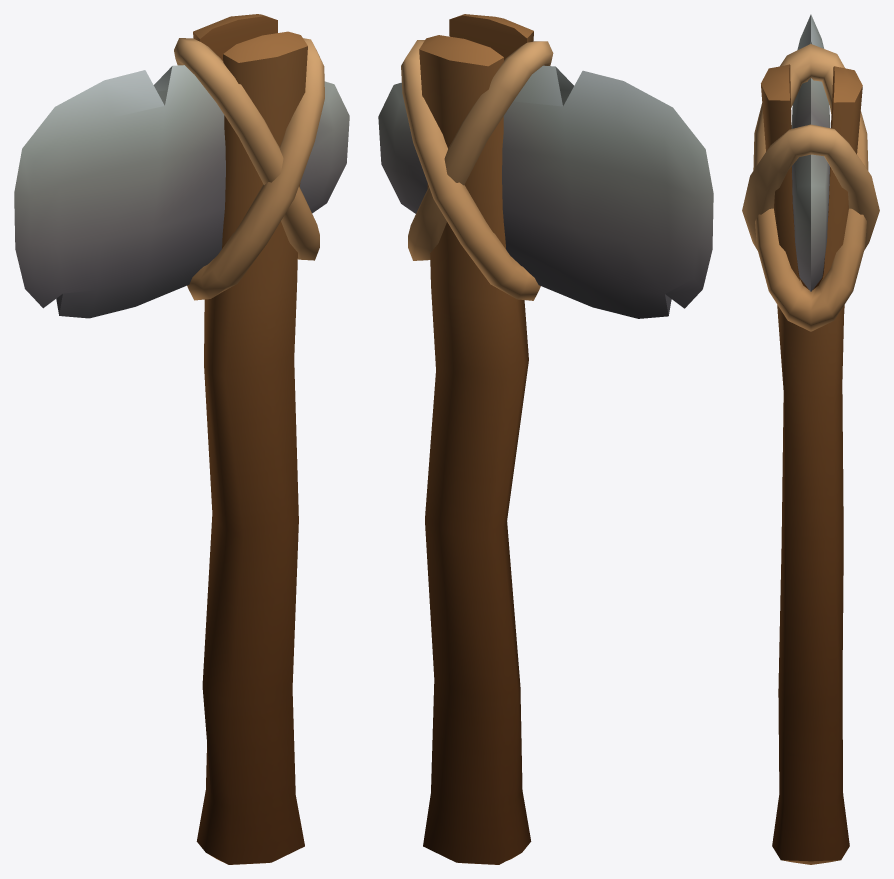
File: Axe_01.glb
3 views of the same model, side by side, from view 1: azimuth 30°, elevation 25°; view 2: azimuth 150°, elevation 25°; view 3: azimuth 270°, elevation 25° (orthographic). The views are drawn at different scales.
Parts seen in each view (by area): view 1: Axe_01; view 2: Axe_01; view 3: Axe_01.
Boxes of the visible parts, box(x1,y1,x2,y2) form: Axe_01: box(14, 14, 349, 864); Axe_01: box(378, 14, 713, 864); Axe_01: box(742, 14, 879, 864).
Size of the model in its own units: 0.4367 by 1.03 by 0.1651.
Materials: 1 (1 with a texture image).
